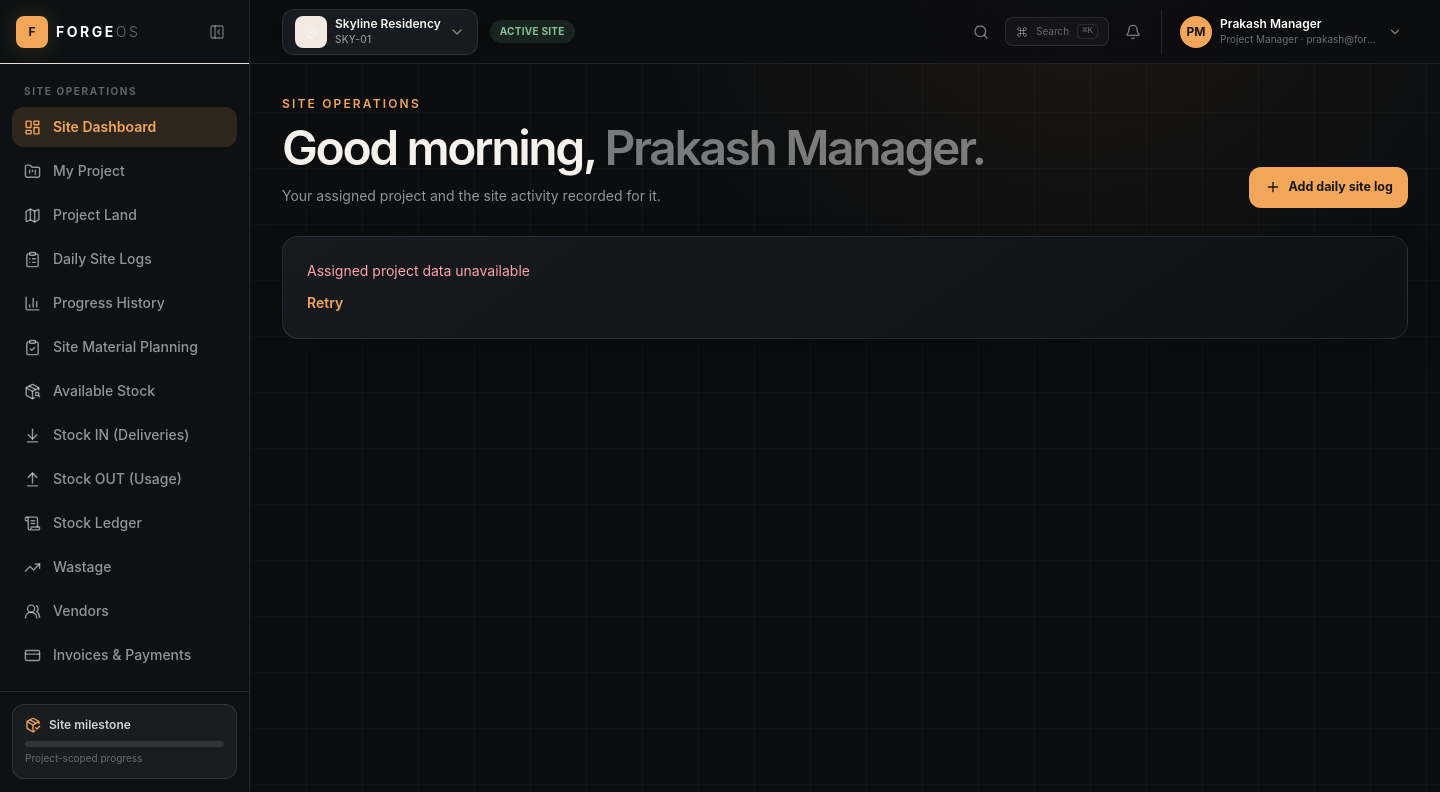
ProjectManagerDashboardPage › shows the error card with Retry when the PM dashboard API fails
The image size is (1440, 792).
Expected: the message reads "Assigned project data unavailable", [307, 262, 530, 279]
What coordinates should you click on to do the following:
click the button "Retry"
I would click on:
 (325, 303)
Its box is [307, 293, 343, 313].
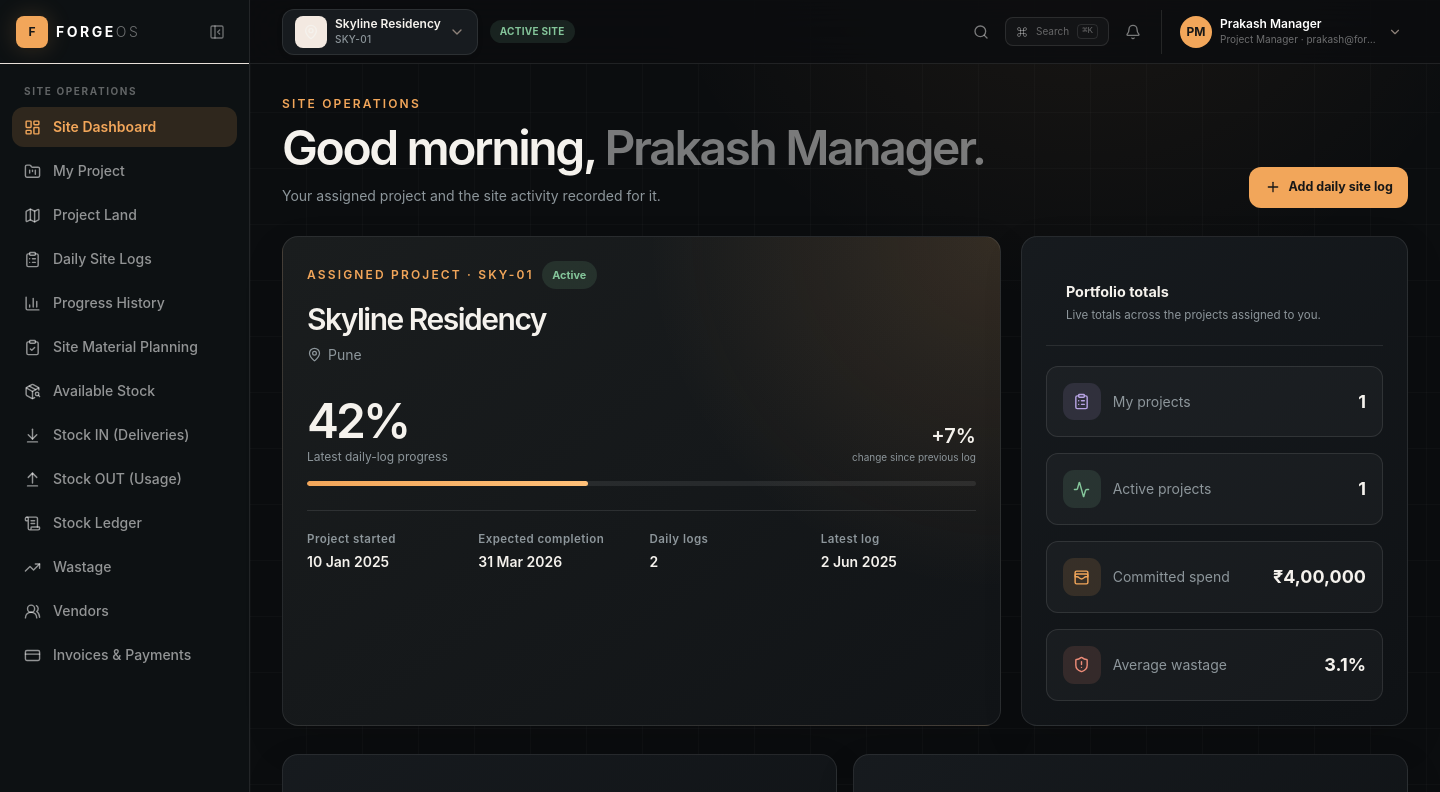
Expected: the heading "Skyline Residency" is shown, [307, 300, 546, 336]
